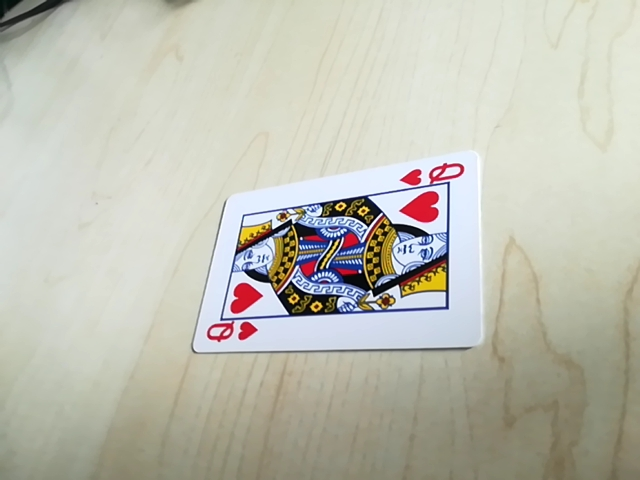hx q: (398, 158, 467, 189), (200, 319, 260, 349)
